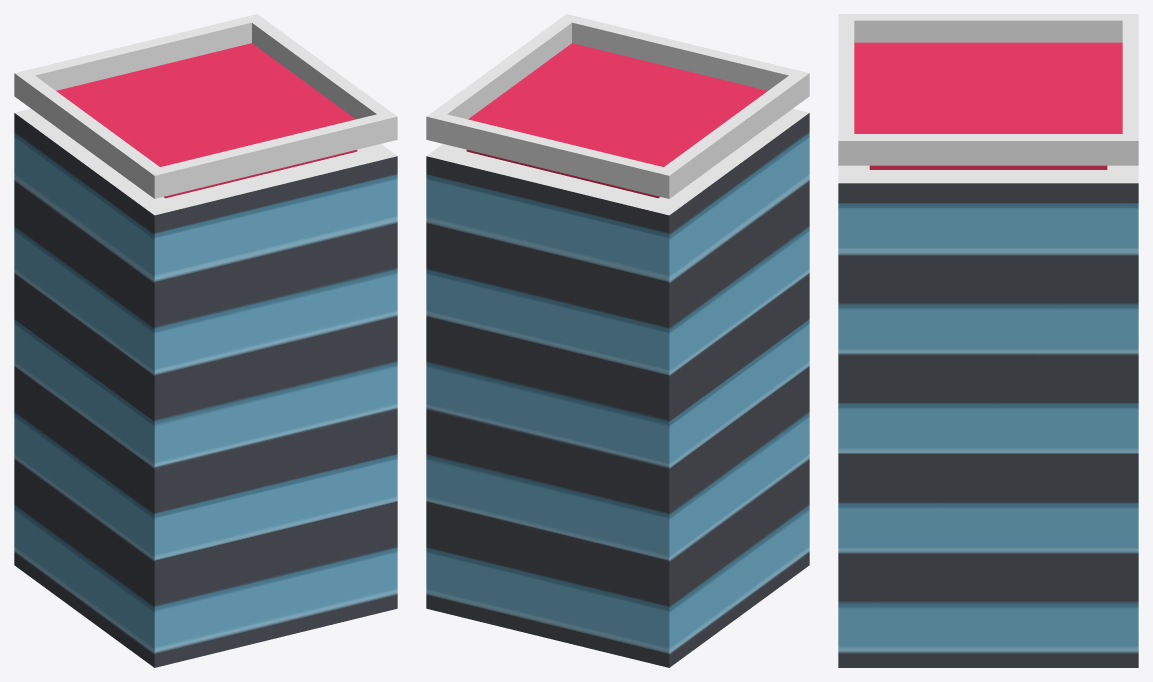
File: building set 2_14.fbx
3 renders of one model, left to right at view 1: azimuth 30°, elevation 25°; view 2: azimuth 150°, elevation 25°; view 3: azimuth 270°, elevation 25°, orthographic. The views are drawn at different scales.
Parts seen in each view (by area): view 1: pCube22; view 2: pCube22; view 3: pCube22.
Part boxes in pixels (x1=…): pCube22: x1=14, y1=14, x2=397, y2=667; pCube22: x1=426, y1=14, x2=809, y2=667; pCube22: x1=838, y1=14, x2=1138, y2=667.
Size of the model in its own units: 3.84 by 7.42 by 3.84.
